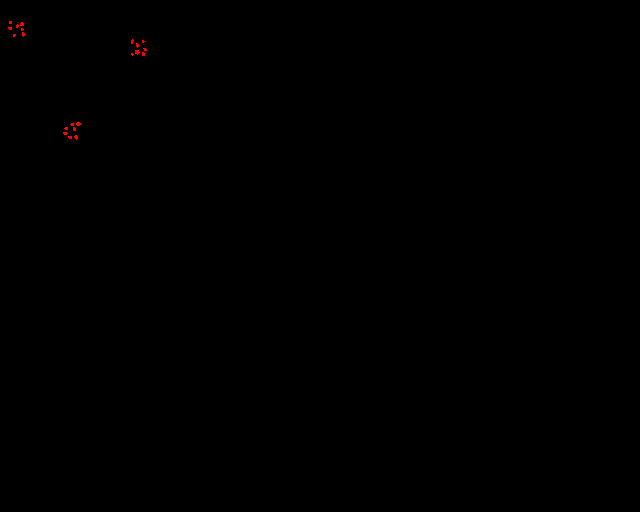Target: (135, 50, 140, 55), (76, 122, 81, 126), (74, 135, 78, 140), (20, 22, 24, 26), (22, 32, 25, 37), (131, 39, 134, 44), (136, 43, 139, 48), (63, 132, 68, 135), (16, 24, 19, 28), (8, 27, 12, 30), (143, 48, 147, 51), (142, 52, 145, 56), (70, 123, 74, 126), (64, 127, 68, 130), (73, 127, 76, 131), (68, 136, 72, 139), (9, 21, 12, 24), (21, 28, 24, 31), (13, 34, 16, 37), (142, 40, 145, 43), (131, 53, 134, 56)
